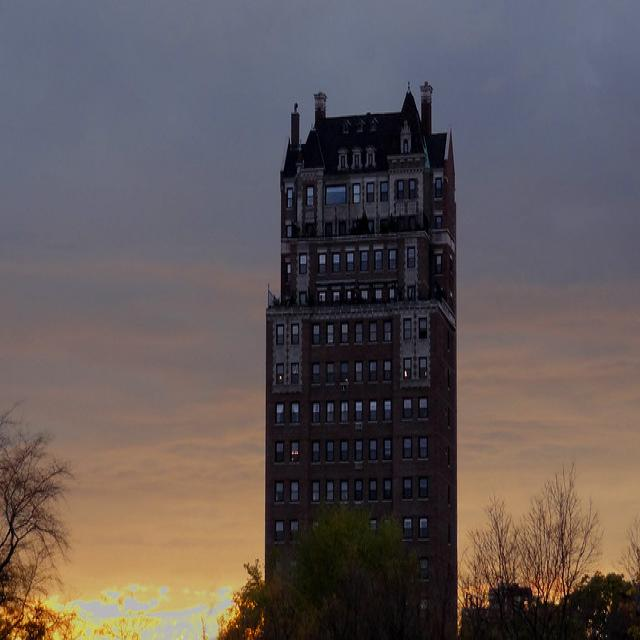Normal_building: (259, 74, 466, 639)
